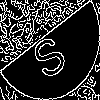S: (25, 25, 70, 82)
